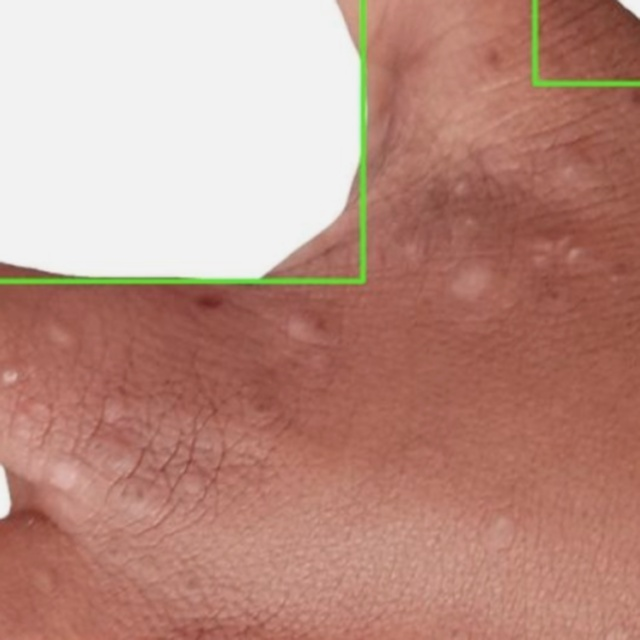Scabies: (0, 0, 364, 279)
